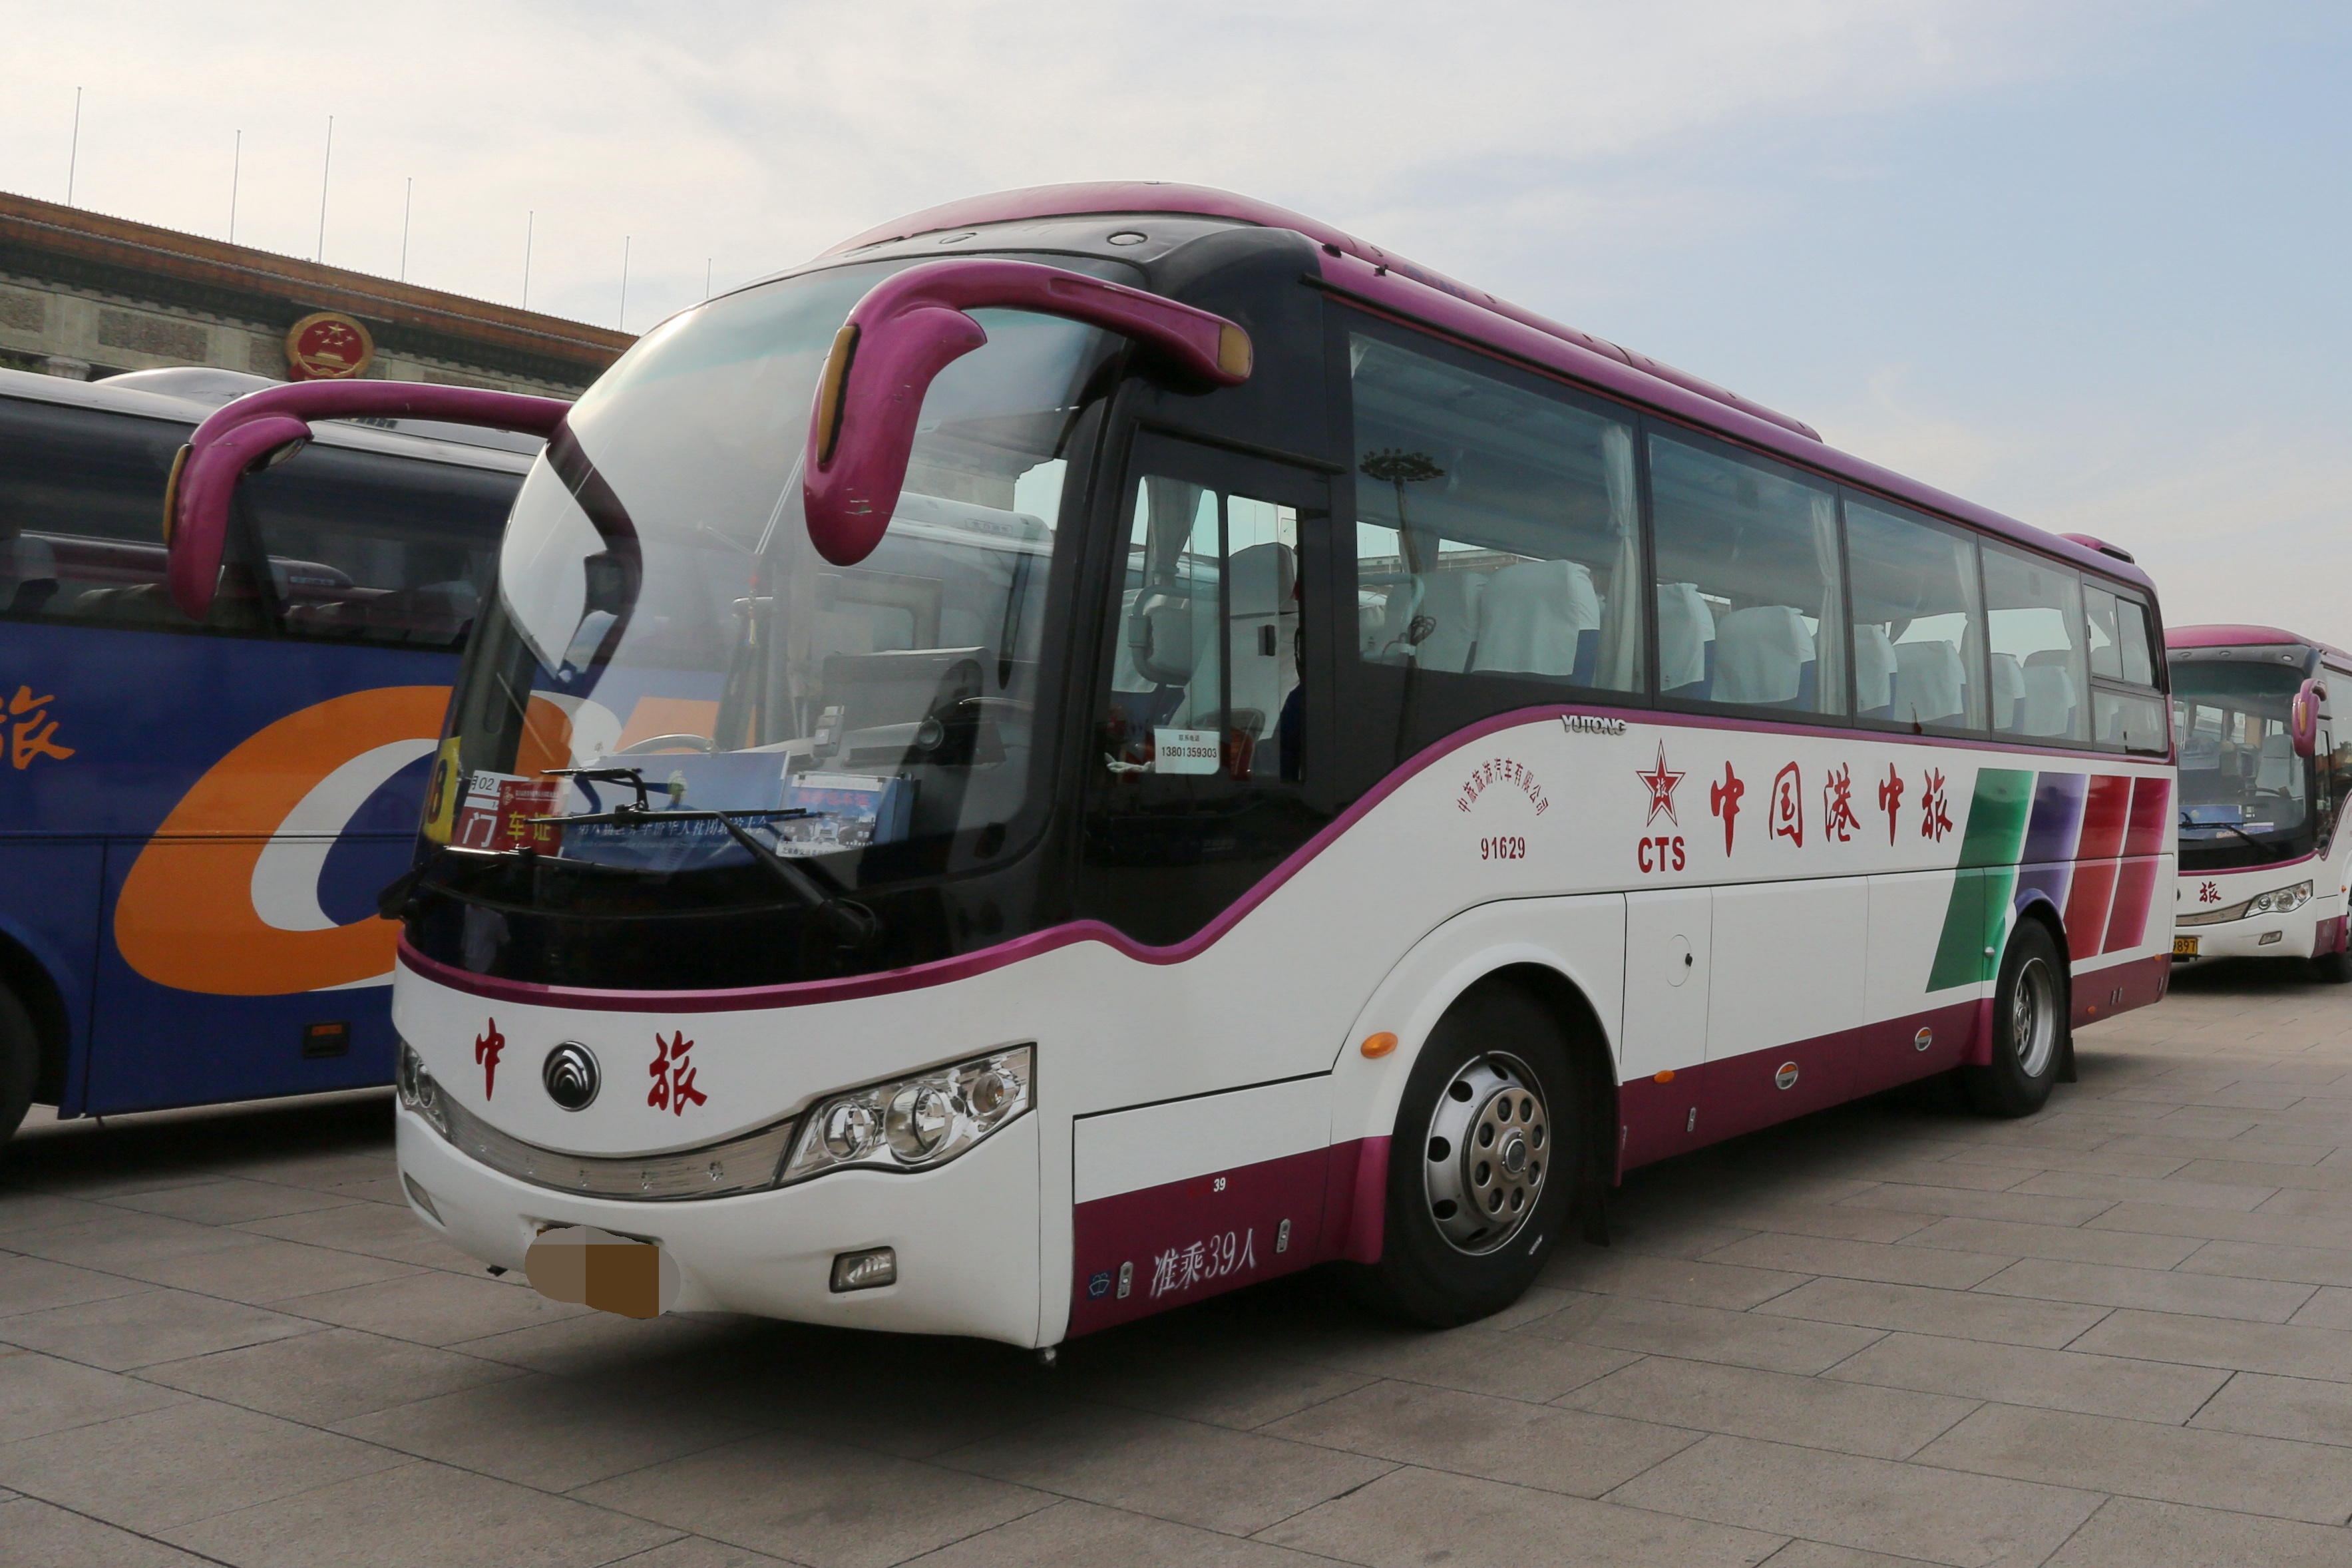bus: (401, 173, 2200, 1396)
